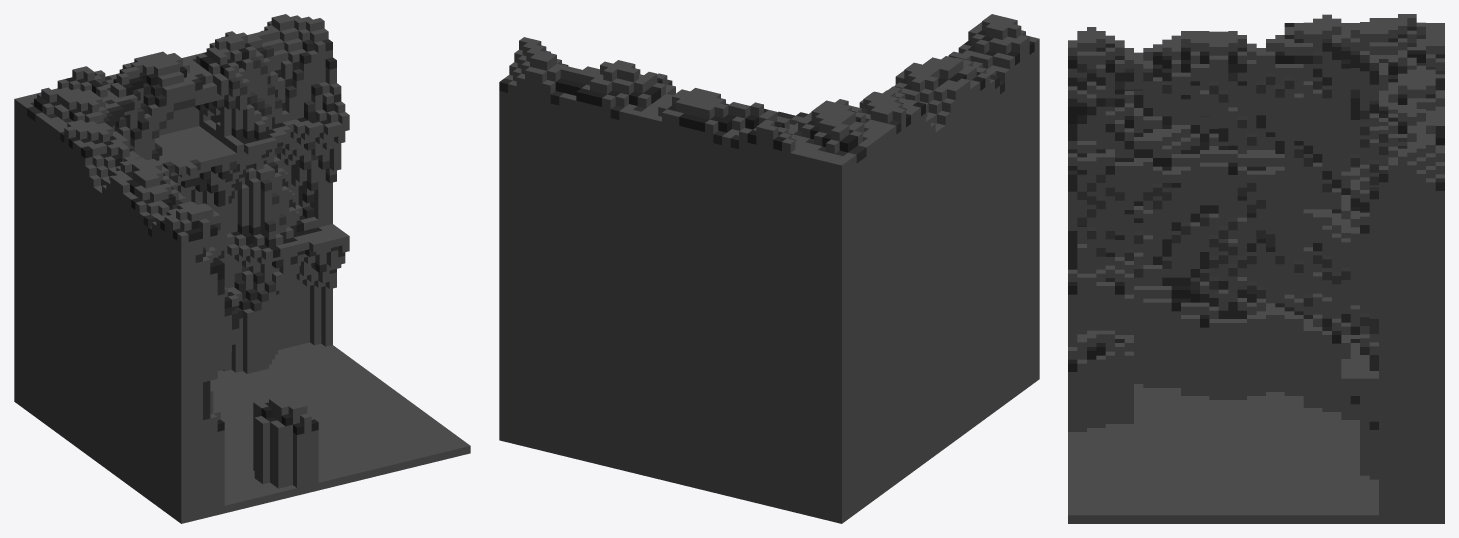
File: LavaPool-3.obj
The picture shows the model from 3 angles, left to right: view 1: azimuth 30°, elevation 25°; view 2: azimuth 150°, elevation 25°; view 3: azimuth 270°, elevation 25°; orthographic projection. The views are drawn at different scales.
Size of the model in its own units: 4 by 4.3 by 4.
